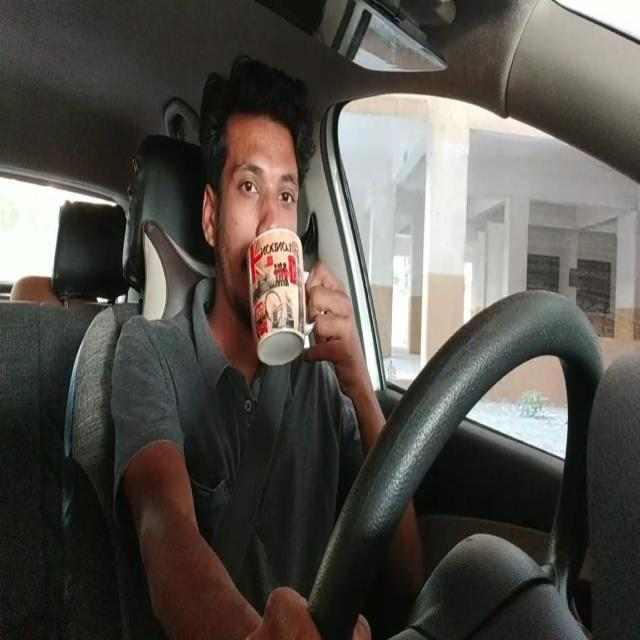Drinking: (202, 110, 356, 372)
